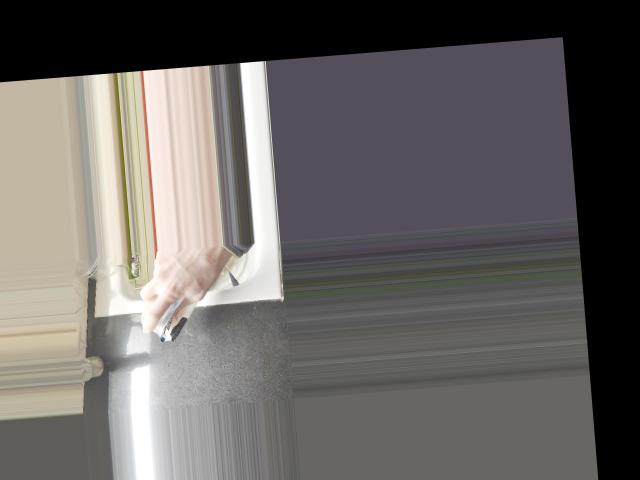cheese: (140, 251, 213, 346)
